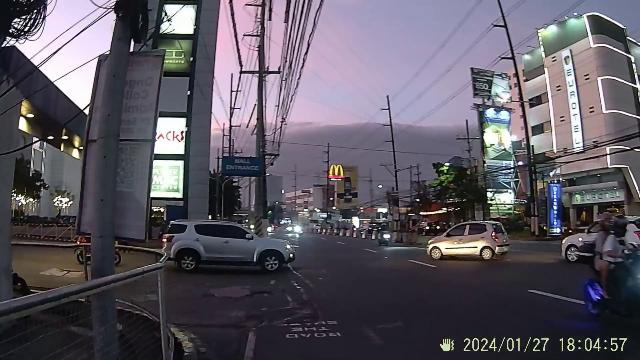utility_post: (376, 92, 402, 198)
